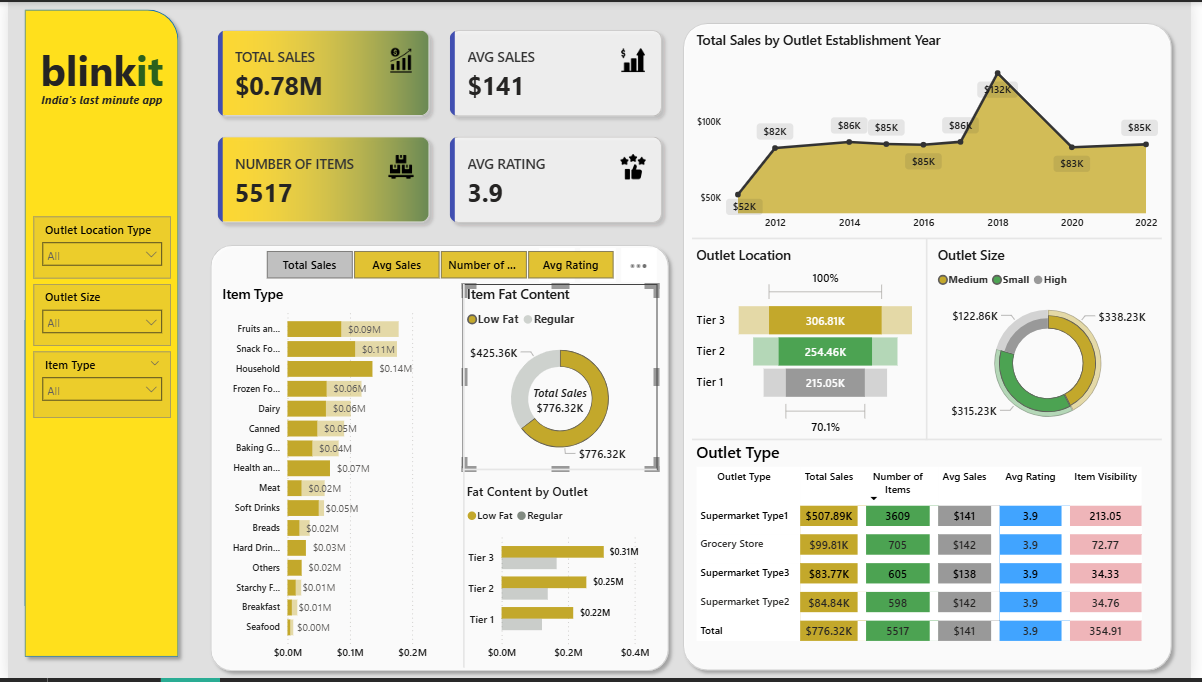

Layout of this report page (visuals, bound fields, positions):
{"tool":"powerbi","page":{"name":"Page 1","canvas":[1400,800],"ordinal":0},"visuals":[{"type":"shape","box":[10.7,0,200,783.9],"z":0},{"type":"textbox","box":[30,42,162,80],"z":1000},{"type":"textbox","box":[30,102,162,34],"z":2000},{"type":"cardVisual","fields":{"Data":["BlinkIT Grocery Data.Total Sales","BlinkIT Grocery Data.Avg Sales","BlinkIT Grocery Data.Number of Items","BlinkIT Grocery Data.Avg Rating"]},"box":[230,16,560,262],"z":3000},{"type":"shape","box":[230,278,560,522],"z":4000},{"type":"donutChart","title":"Item Fat Content","fields":{"Y":["BlinkIT Grocery Data.Total Sales"],"Category":["BlinkIT Grocery Data.Item Fat Content"]},"box":[538,334,230,220],"z":5000},{"type":"slicer","fields":{"Values":["Metrics.Metrics"]},"box":[280,288,460,46],"z":6000},{"type":"cardVisual","fields":{"Data":["BlinkIT Grocery Data.Total Sales"]},"box":[598,430,110,82],"z":7000},{"type":"clusteredBarChart","title":"Fat Content by Outlet","fields":{"Y":["BlinkIT Grocery Data.Total Sales"],"Category":["BlinkIT Grocery Data.Outlet Location Type"],"Series":["BlinkIT Grocery Data.Item Fat Content"]},"box":[538,568,230,220],"z":7001},{"type":"shape","box":[538,528,230,52],"z":7002},{"type":"shape","box":[510,334,60,454],"z":7003},{"type":"barChart","title":"Item Type","fields":{"Category":["BlinkIT Grocery Data.Item Type"],"Y":["BlinkIT Grocery Data.Total Sales"]},"box":[248,334,276,454],"z":7004},{"type":"shape","box":[790,16,596,784],"z":7005},{"type":"lineChart","fields":{"Category":["BlinkIT Grocery Data.Outlet Establishment Year"],"Y":["BlinkIT Grocery Data.Total Sales"]},"box":[810,34,556,245],"z":7006},{"type":"shape","box":[810,254,556,52],"z":7007},{"type":"donutChart","title":"Outlet Size","fields":{"Y":["BlinkIT Grocery Data.Total Sales"],"Category":["BlinkIT Grocery Data.Outlet Size"]},"box":[1096,288,270,230],"z":7008},{"type":"shape","box":[1056,280,62,238],"z":7009},{"type":"funnel","title":"Outlet Location","fields":{"Y":["Sum(BlinkIT Grocery Data.Sales)"],"Category":["BlinkIT Grocery Data.Outlet Location Type"]},"box":[810,288,270,230],"z":7010},{"type":"shape","box":[810,492,556,52],"z":7011},{"type":"pivotTable","title":"Outlet Type","fields":{"Rows":["BlinkIT Grocery Data.Outlet Type"],"Values":["BlinkIT Grocery Data.Total Sales","BlinkIT Grocery Data.Number of Items","BlinkIT Grocery Data.Avg Sales","BlinkIT Grocery Data.Avg Rating","Sum(BlinkIT Grocery Data.Item Visibility)"]},"box":[810,520,556,252],"z":7012},{"type":"slicer","fields":{"Values":["BlinkIT Grocery Data.Outlet Location Type"]},"box":[30.4,253.6,162.5,73.2],"z":7013},{"type":"slicer","fields":{"Values":["BlinkIT Grocery Data.Outlet Size"]},"box":[30.4,333.9,162.5,73.2],"z":7014},{"type":"slicer","fields":{"Values":["BlinkIT Grocery Data.Item Type"]},"box":[30.4,414.3,162.5,78.6],"z":7015}]}

Visuals, with their boxes in screenshot pixels (x1, y1, x2, y2), scaled from the page's 1400x800 canvas onto the 1202x682 screenshot:
shape: rect(9, 0, 181, 668)
textbox: rect(26, 36, 165, 104)
textbox: rect(26, 87, 165, 116)
cardVisual - BlinkIT Grocery Data.Total Sales x BlinkIT Grocery Data.Avg Sales: rect(197, 14, 678, 237)
shape: rect(197, 237, 678, 681)
"Item Fat Content" donutChart: rect(462, 285, 659, 472)
slicer - Metrics.Metrics: rect(240, 246, 635, 285)
cardVisual - BlinkIT Grocery Data.Total Sales: rect(513, 367, 608, 436)
"Fat Content by Outlet" clusteredBarChart: rect(462, 484, 659, 672)
shape: rect(462, 450, 659, 494)
shape: rect(438, 285, 489, 672)
"Item Type" barChart: rect(213, 285, 450, 672)
shape: rect(678, 14, 1190, 681)
lineChart - BlinkIT Grocery Data.Outlet Establishment Year x BlinkIT Grocery Data.Total Sales: rect(695, 29, 1173, 238)
shape: rect(695, 217, 1173, 261)
"Outlet Size" donutChart: rect(941, 246, 1173, 442)
shape: rect(907, 239, 960, 442)
"Outlet Location" funnel: rect(695, 246, 927, 442)
shape: rect(695, 419, 1173, 464)
"Outlet Type" pivotTable: rect(695, 443, 1173, 658)
slicer - BlinkIT Grocery Data.Outlet Location Type: rect(26, 216, 166, 279)
slicer - BlinkIT Grocery Data.Outlet Size: rect(26, 285, 166, 347)
slicer - BlinkIT Grocery Data.Item Type: rect(26, 353, 166, 420)
